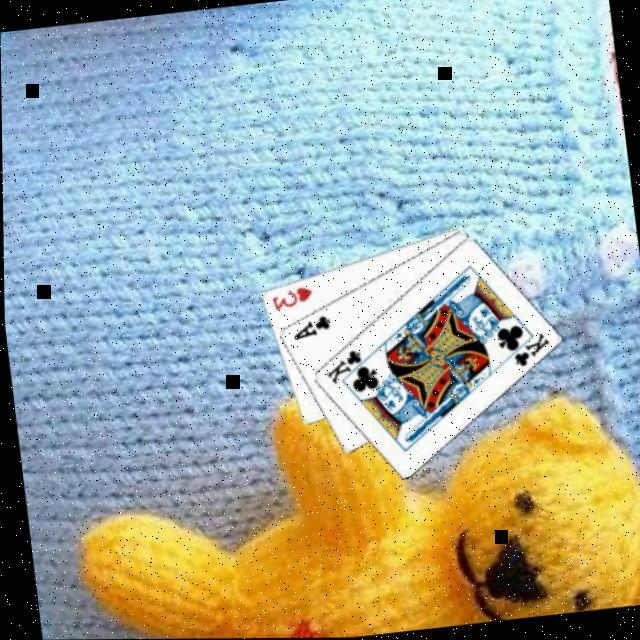3H: (268, 284, 316, 316)
AC: (288, 313, 334, 345)
KC: (498, 330, 554, 373), (320, 348, 374, 390)
